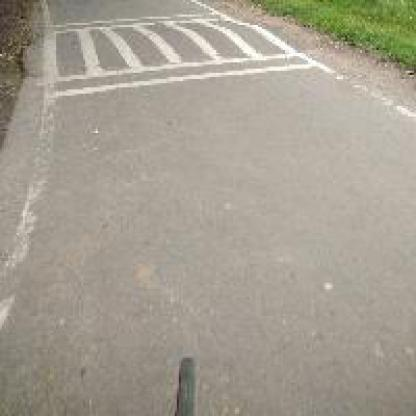Speed Bump: (48, 17, 310, 98)
